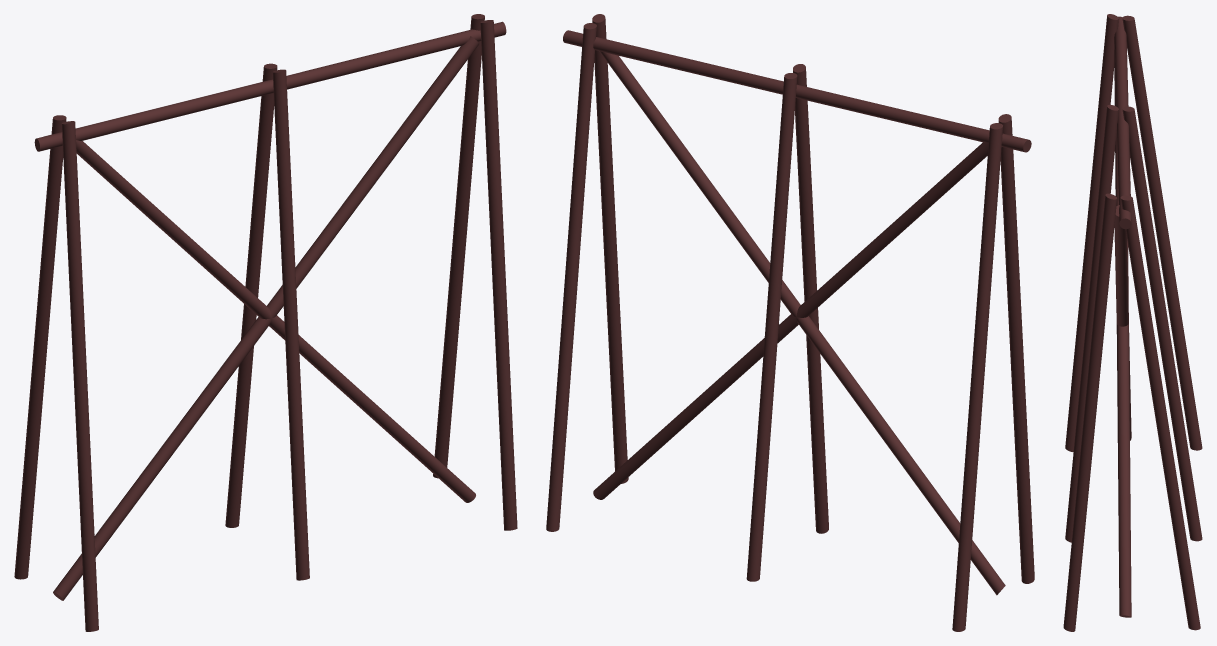
Rendered from TomateArmacao.fbx.
The picture shows the model from 3 angles, left to right: view 1: azimuth 30°, elevation 25°; view 2: azimuth 150°, elevation 25°; view 3: azimuth 270°, elevation 25°; orthographic projection. The views are drawn at different scales.
Visible parts, largest first — view 1: pCylinder9, pCylinder7, pCylinder5, pCylinder1, pCylinder8, pCylinder2, pCylinder3, pCylinder4, pCylinder6; view 2: pCylinder9, pCylinder2, pCylinder6, pCylinder4, pCylinder8, pCylinder1, pCylinder3, pCylinder5, pCylinder7; view 3: pCylinder5, pCylinder2, pCylinder6, pCylinder4, pCylinder1, pCylinder8, pCylinder7, pCylinder3, pCylinder9.
Boxes of the visible parts, x1=… form: pCylinder9: x1=53, y1=36, x2=478, y2=600; pCylinder7: x1=272, y1=69, x2=309, y2=580; pCylinder5: x1=480, y1=20, x2=517, y2=530; pCylinder1: x1=61, y1=121, x2=98, y2=631; pCylinder8: x1=76, y1=140, x2=475, y2=502; pCylinder2: x1=14, y1=115, x2=66, y2=579; pCylinder3: x1=34, y1=21, x2=506, y2=151; pCylinder4: x1=433, y1=14, x2=484, y2=478; pCylinder6: x1=225, y1=63, x2=277, y2=527; pCylinder9: x1=599, y1=39, x2=1005, y2=595; pCylinder2: x1=952, y1=123, x2=1002, y2=631; pCylinder6: x1=746, y1=73, x2=797, y2=581; pCylinder4: x1=546, y1=23, x2=596, y2=531; pCylinder8: x1=593, y1=142, x2=988, y2=499; pCylinder1: x1=998, y1=114, x2=1034, y2=583; pCylinder3: x1=563, y1=30, x2=1031, y2=152; pCylinder5: x1=592, y1=14, x2=628, y2=483; pCylinder7: x1=793, y1=64, x2=828, y2=533; pCylinder5: x1=1063, y1=193, x2=1117, y2=631; pCylinder2: x1=1122, y1=15, x2=1202, y2=450; pCylinder6: x1=1122, y1=106, x2=1202, y2=541; pCylinder4: x1=1120, y1=195, x2=1200, y2=630; pCylinder1: x1=1065, y1=14, x2=1118, y2=452; pCylinder8: x1=1114, y1=36, x2=1131, y2=617; pCylinder7: x1=1065, y1=104, x2=1118, y2=542; pCylinder3: x1=1114, y1=16, x2=1131, y2=229; pCylinder9: x1=1114, y1=205, x2=1131, y2=440.
Bounding box in the file's own units: 5.36 × 5.38 × 1.56.
